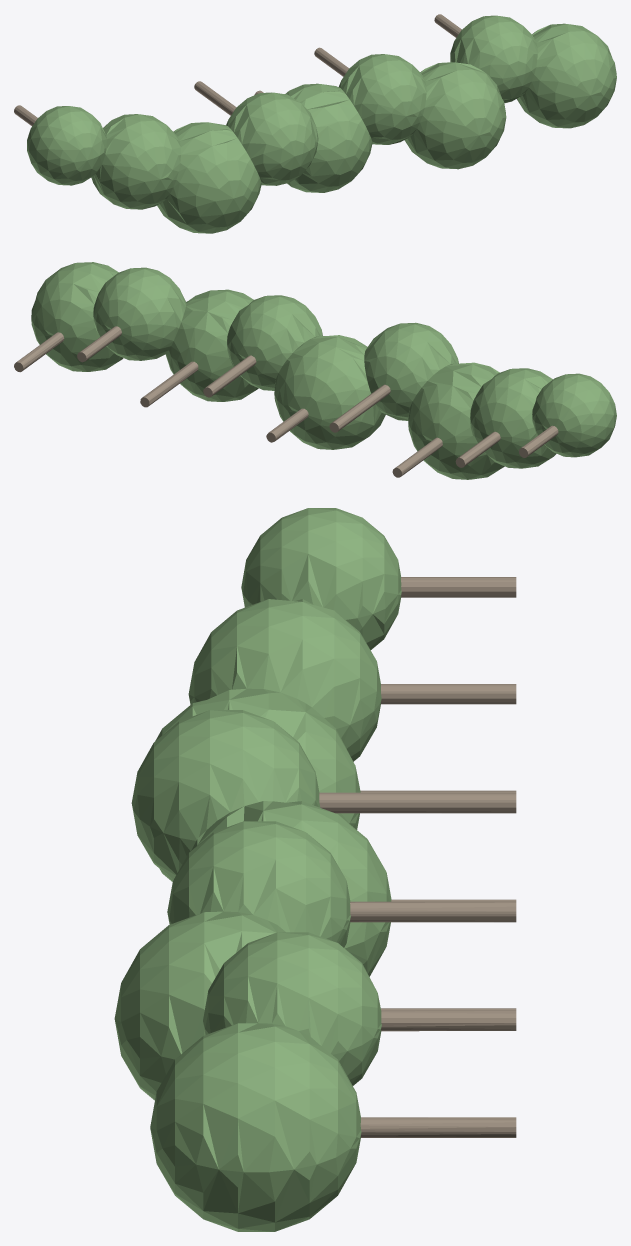
Rendered from r-109-swan-point-wooded-bluff.glb.
The picture shows the model from 3 angles, top to bottom: view 1: azimuth 30°, elevation 25°; view 2: azimuth 150°, elevation 25°; view 3: azimuth 270°, elevation 25°; orthographic projection. The views are drawn at different scales.
Parts seen in each view (by area): view 1: foliage, trunks; view 2: foliage, trunks; view 3: foliage, trunks.
Part boxes in pixels (left/top/right/bottom): foliage: left=27, top=15, right=616, bottom=233; trunks: left=14, top=14, right=461, bottom=125; foliage: left=31, top=262, right=616, bottom=479; trunks: left=14, top=326, right=558, bottom=477; foliage: left=114, top=508, right=401, bottom=1231; trunks: left=319, top=577, right=516, bottom=1137.
Size of the model in its own units: 56013 by 12869 by 17380.
